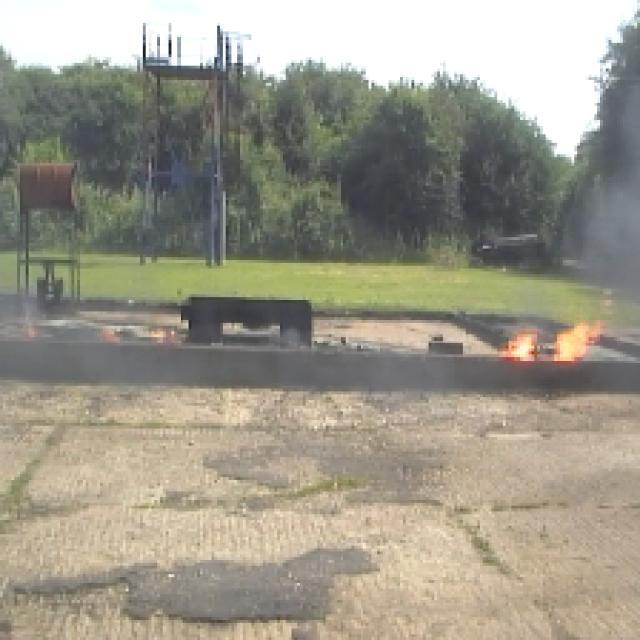Fire: (494, 295, 615, 363)
Smoke: (561, 36, 640, 324)
